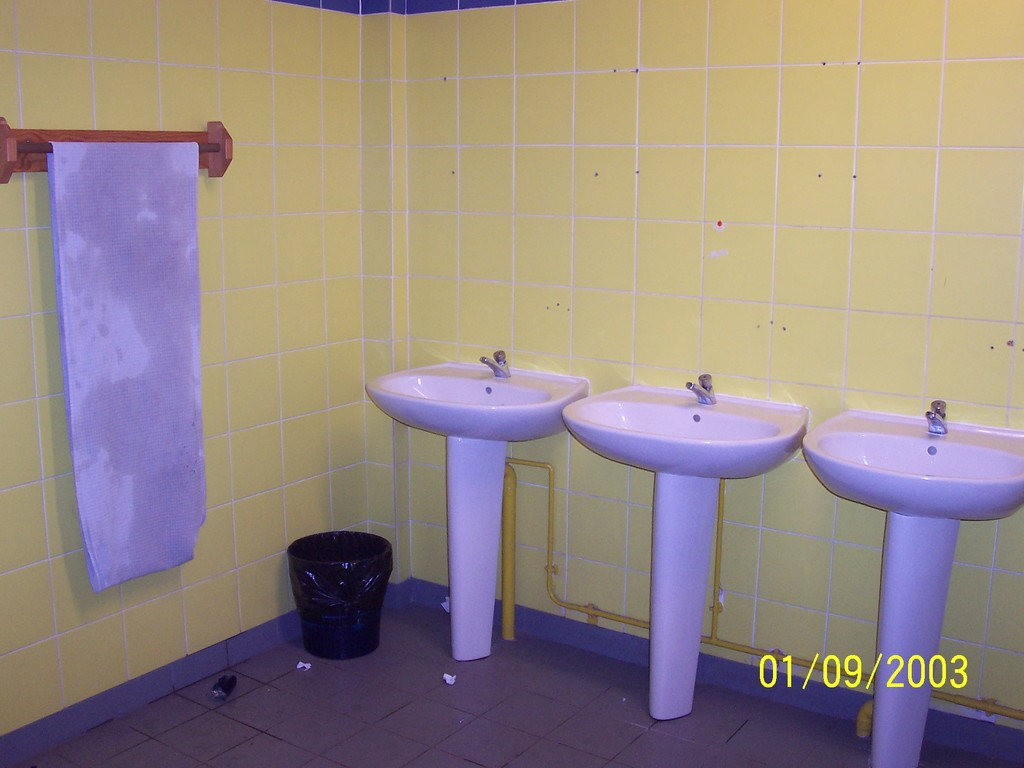tap: (476, 343, 513, 378), (919, 398, 947, 439), (686, 371, 715, 403)
